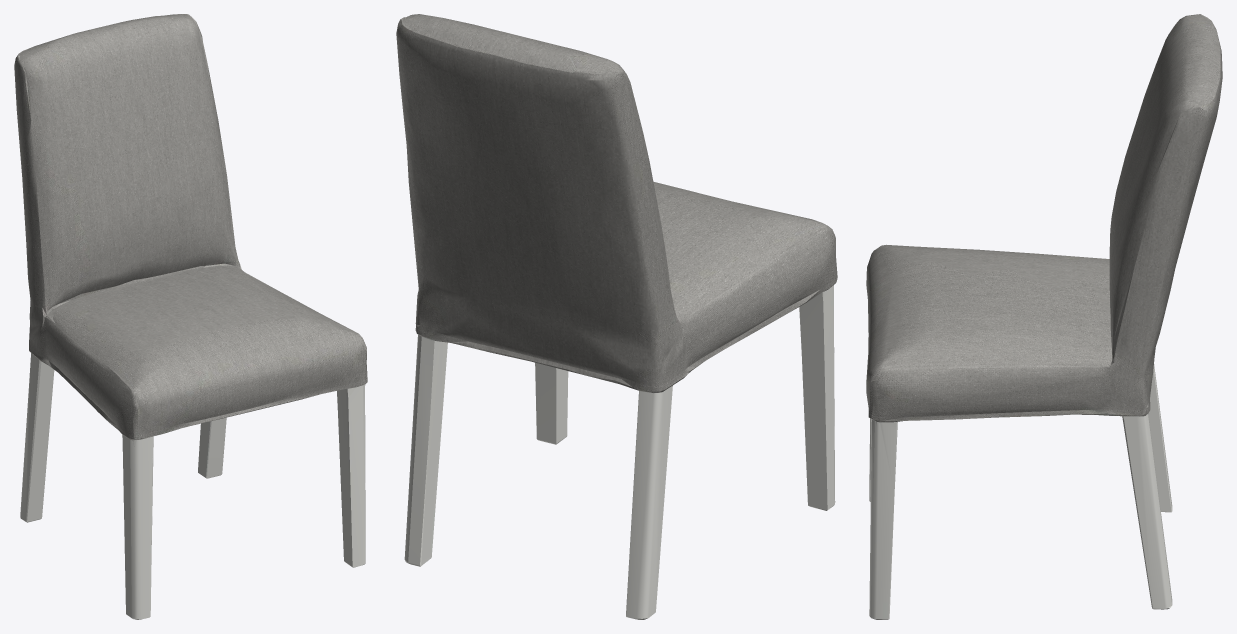
Rendered from 34 - BERGMUND - 餐椅, 白色Orrsta 淺灰色 IKEA 線上購物.glb.
3 views of the same model, side by side, from view 1: azimuth 30°, elevation 25°; view 2: azimuth 150°, elevation 25°; view 3: azimuth 270°, elevation 25° (orthographic). The views are drawn at different scales.
Visible parts, largest first — view 1: ProcessedMeshNode; view 2: ProcessedMeshNode; view 3: ProcessedMeshNode.
Boxes of the visible parts, bbox=[...] form: ProcessedMeshNode: bbox=[14, 14, 367, 619]; ProcessedMeshNode: bbox=[396, 14, 837, 619]; ProcessedMeshNode: bbox=[866, 14, 1222, 619].
Size of the model in its own units: 0.5338 by 0.9585 by 0.6141.
1 material, 1 textured.
